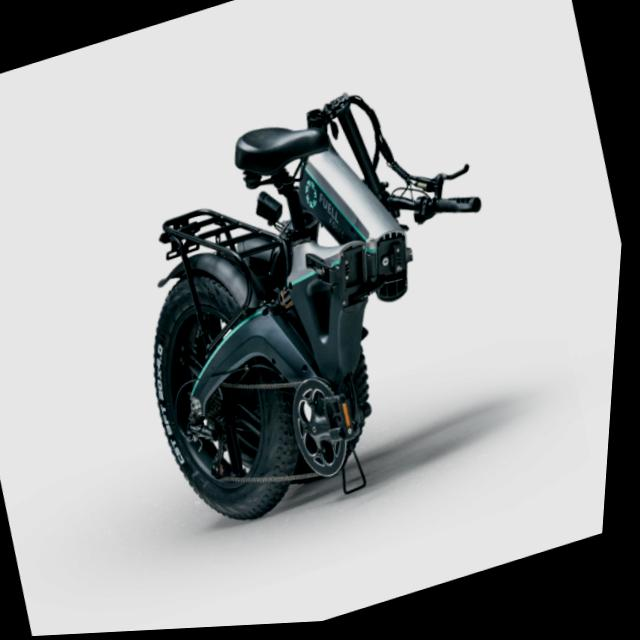folding-bike: (87, 58, 555, 560)
